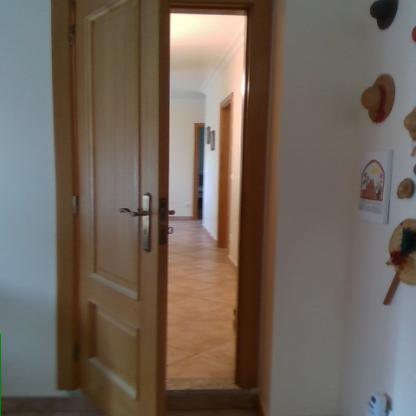semi: (54, 0, 274, 415)
